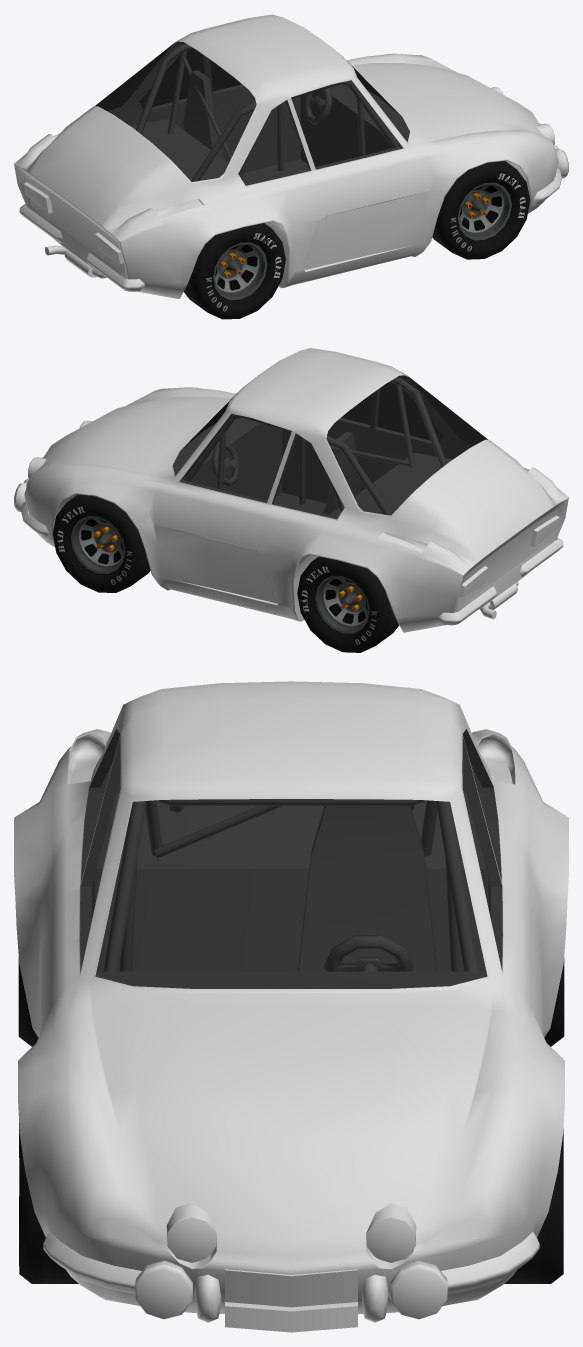
3 views of the same model, one above another, from view 1: azimuth 30°, elevation 25°; view 2: azimuth 150°, elevation 25°; view 3: azimuth 270°, elevation 25° (orthographic). The views are drawn at different scales.
Visible parts, largest first — view 1: CarBody, Glass, TireRearR, TireFrontR; view 2: CarBody, Glass, TireRearL, TireFrontL; view 3: CarBody, Glass, TireFrontR, TireFrontL, TireRearR, TireRearL.
Part boxes in pixels (x1,y1,x2,y2): CarBody: [14, 14, 568, 298]; Glass: [95, 42, 409, 185]; TireRearR: [183, 223, 285, 319]; TireFrontR: [432, 161, 530, 259]; CarBody: [14, 348, 568, 632]; Glass: [173, 375, 487, 519]; TireRearL: [297, 556, 399, 652]; TireFrontL: [52, 494, 150, 592]; CarBody: [14, 681, 568, 1332]; Glass: [80, 729, 502, 988]; TireFrontR: [19, 1123, 78, 1283]; TireFrontL: [504, 1129, 563, 1283]; TireRearR: [18, 958, 38, 1046]; TireRearL: [544, 958, 564, 1046].
Size of the model in its own units: 255 by 105 by 129.
